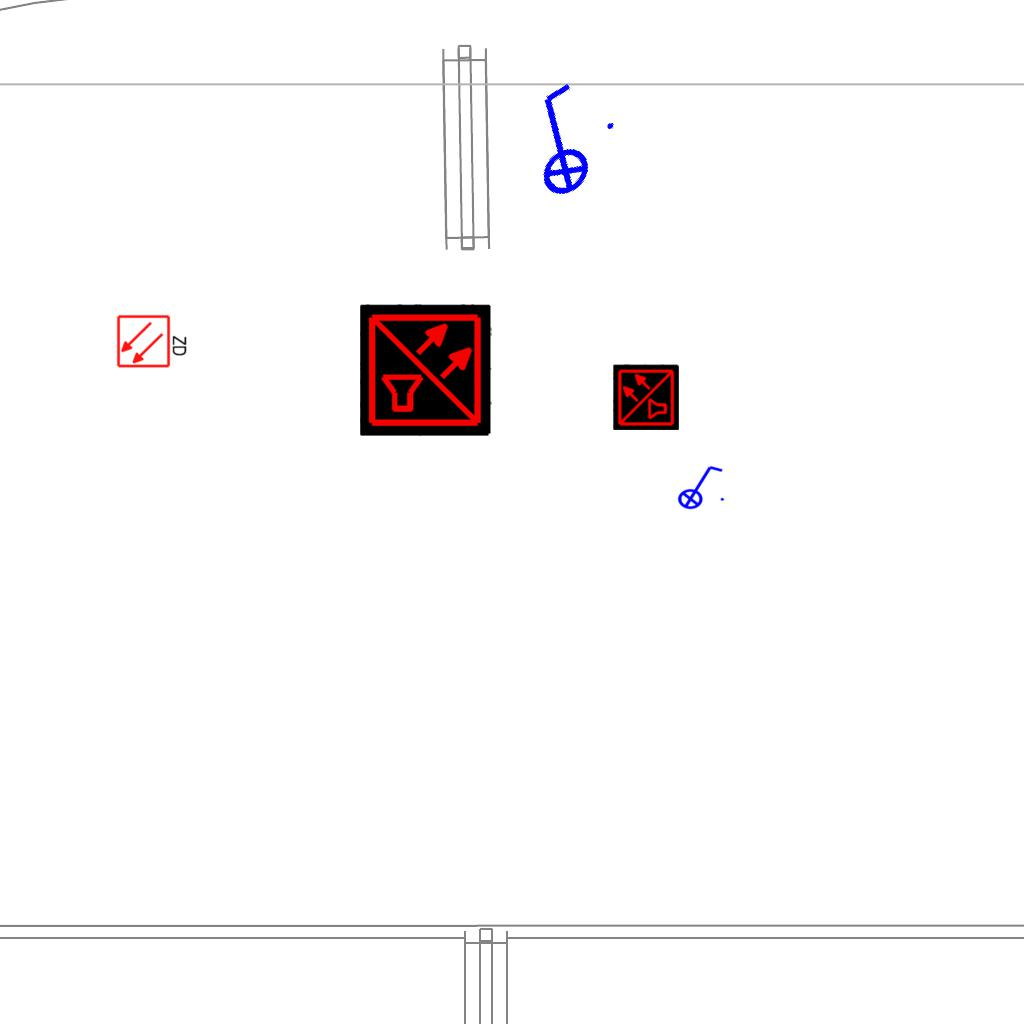Ausschalter_beleuchtet: (485, 67, 633, 215), (671, 462, 727, 510)
OKW_Multisensormelder_(Kombination_optischer_Rauch-Kahlenmonoxid_Waerme-Melder): (360, 304, 492, 436), (613, 364, 679, 430)
ZD_Melder_in_Zwischendecke_mit_Revisionsoeffnung_mind_40_x_40_cm: (116, 312, 190, 369)
